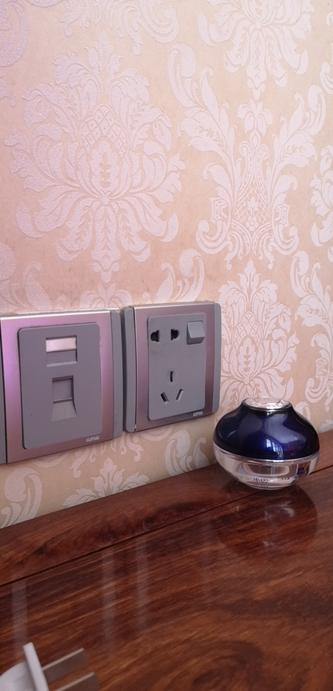switch: (183, 319, 210, 345)
